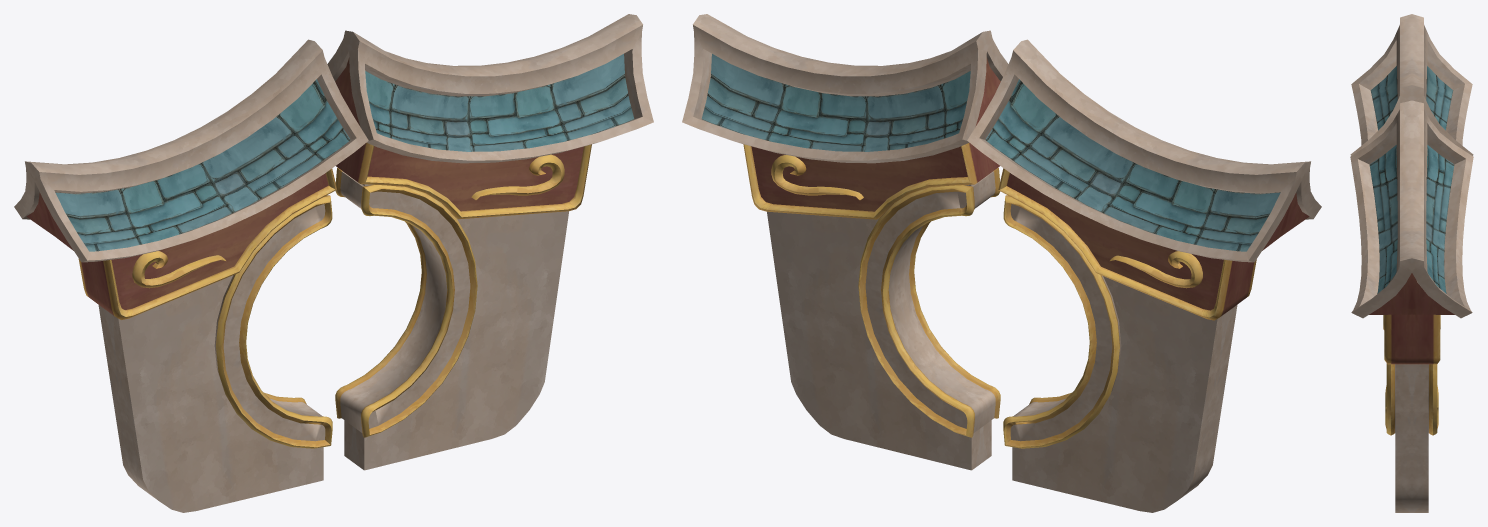
The model's file is BRUME_Temple_Porte.fbx.
The picture shows the model from 3 angles, left to right: view 1: azimuth 30°, elevation 25°; view 2: azimuth 150°, elevation 25°; view 3: azimuth 270°, elevation 25°; orthographic projection. The views are drawn at different scales.
Visible parts, largest first — view 1: Body_low001; view 2: Body_low001; view 3: Body_low001.
Boxes of the visible parts, x1,y1,x2,y2 form: Body_low001: [14, 14, 653, 512]; Body_low001: [682, 14, 1321, 512]; Body_low001: [1350, 14, 1473, 512].
Size of the model in its own units: 9.78 by 6.66 by 2.09.
